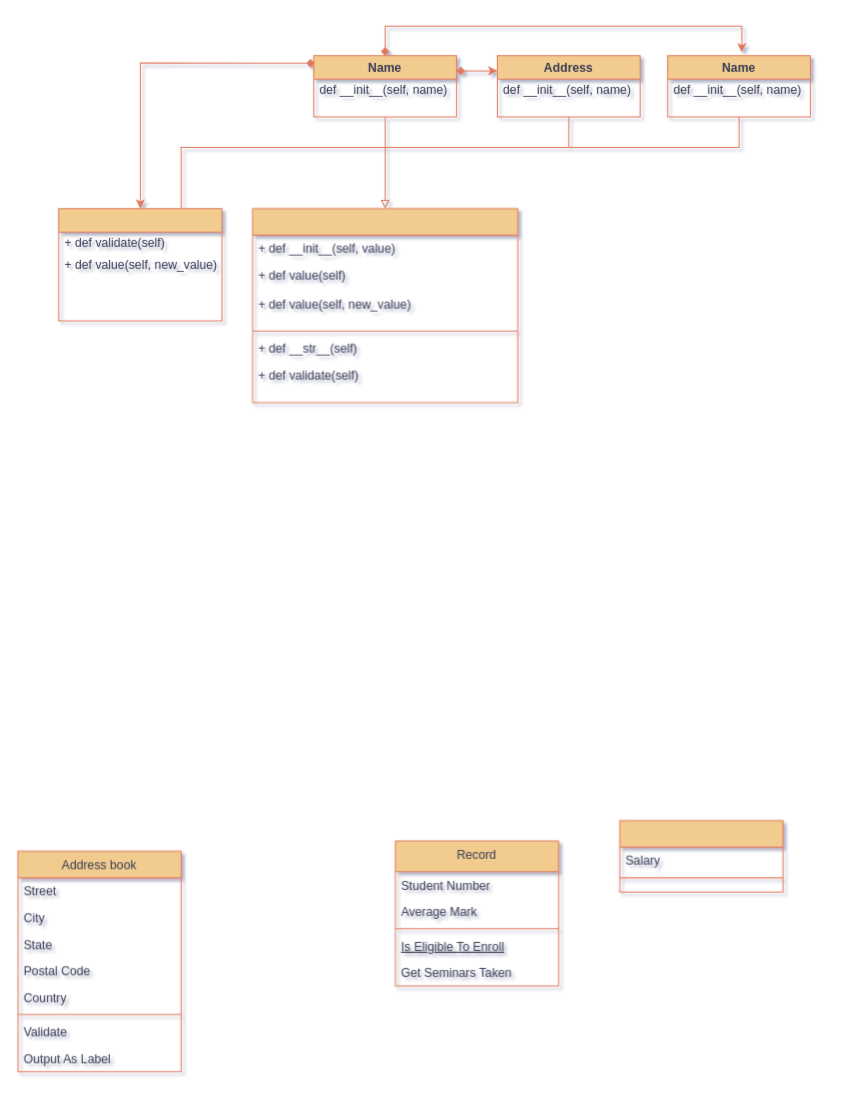
Some shapes in this 855 by 1099 pixel diagram are drawn without their labels. The shapes that lost their labels are listed below. From the top down, each one's box as (x1, y1, x2, y2) in pixels, then its label:
(58, 208, 222, 321): Phone
(251, 208, 518, 402): Filed
(619, 820, 783, 892): Controller
